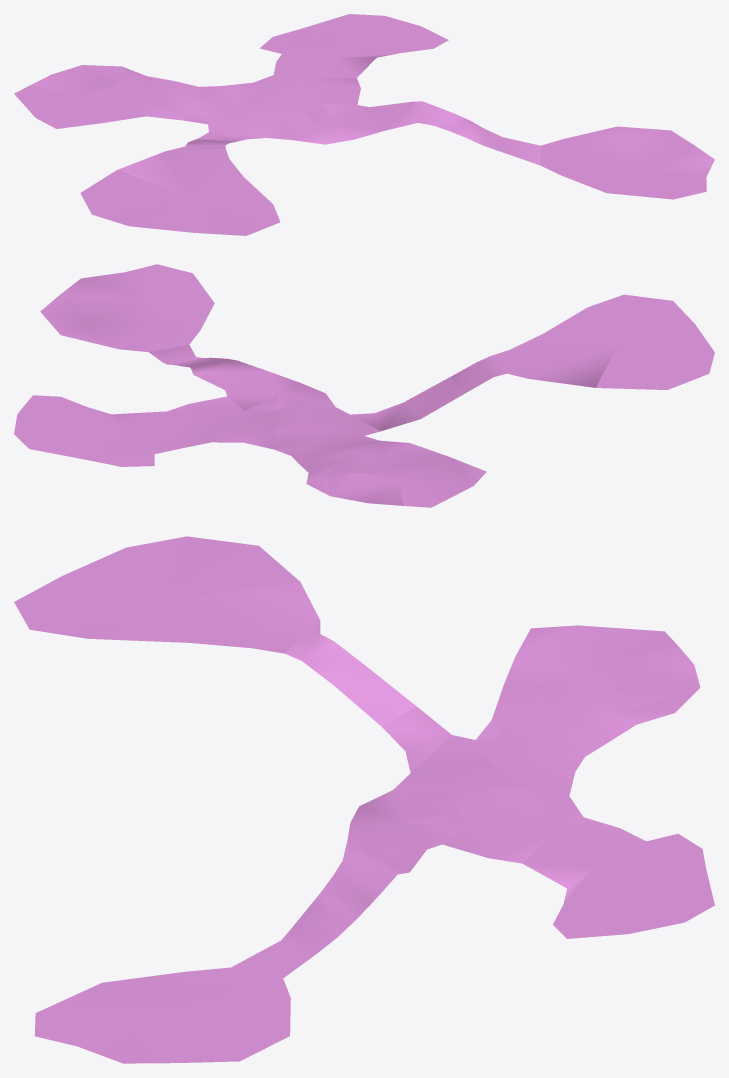
File: coli_1.FBX
3 renders of one model, top to bottom at view 1: azimuth 30°, elevation 25°; view 2: azimuth 150°, elevation 25°; view 3: azimuth 270°, elevation 25°, orthographic. The views are drawn at different scales.
Parts seen in each view (by area): view 1: coli_1; view 2: coli_1; view 3: coli_1.
Part boxes in pixels (x1,y1,x2,y2): coli_1: [14, 14, 714, 235]; coli_1: [14, 264, 714, 507]; coli_1: [14, 536, 714, 1063].
Size of the model in its own units: 10194 by 1218 by 7196.
